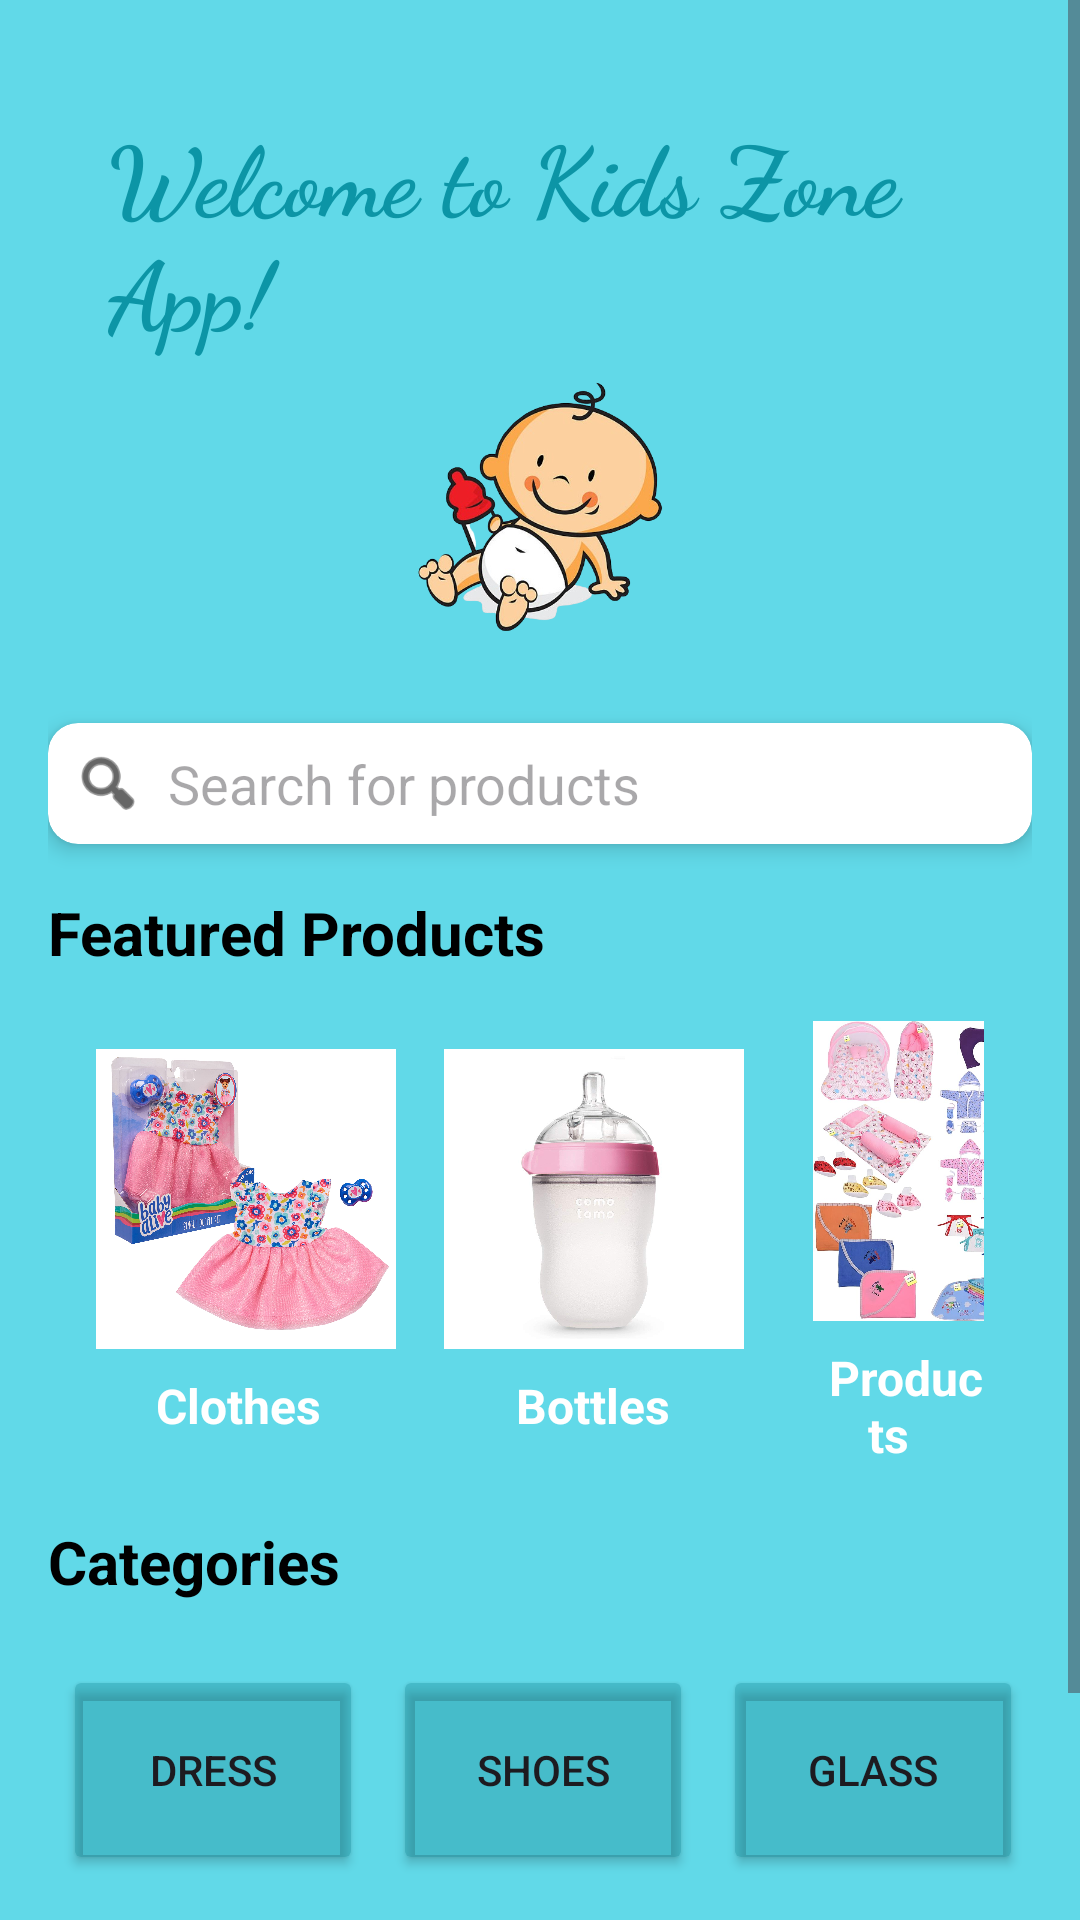

Icon click points for this 1080 × 1920 phone screenshot, format point (x, y):
cute: point (540, 507)
